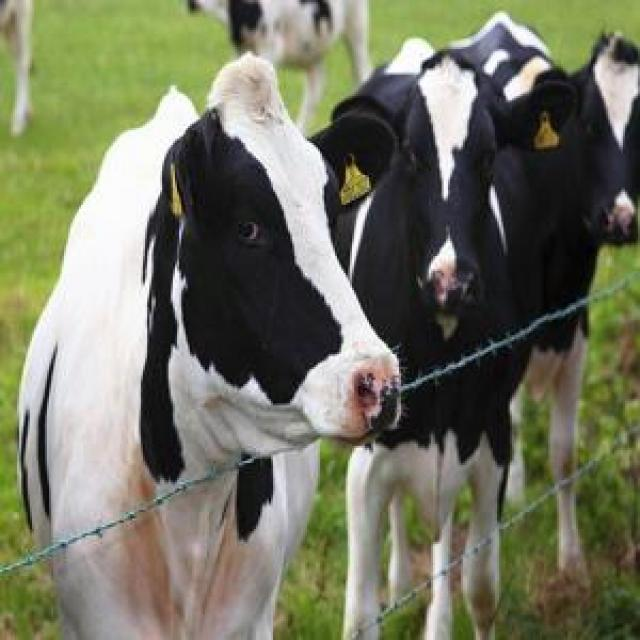cow: (19, 54, 398, 640), (450, 12, 640, 569), (349, 54, 575, 381), (344, 345, 528, 639)
